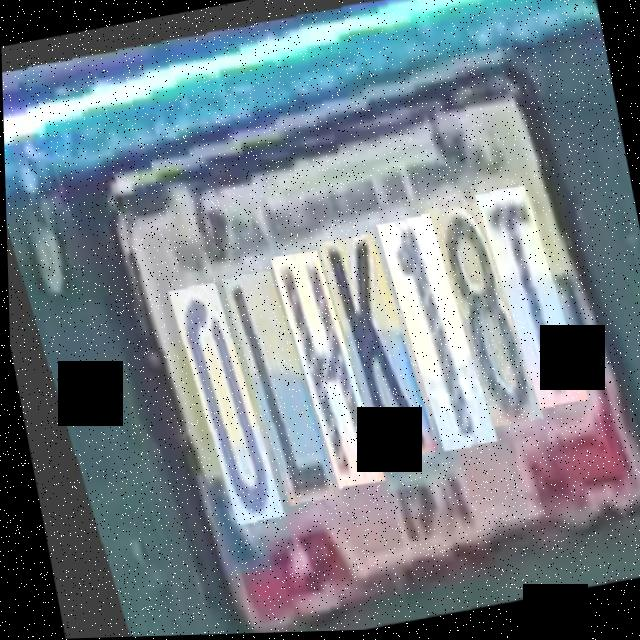0: (154, 264, 263, 515)
1: (365, 203, 479, 450)
8: (418, 191, 527, 427)
H: (258, 233, 366, 483)
K: (306, 219, 419, 457)
L: (209, 252, 316, 498)
T: (466, 177, 573, 410)
